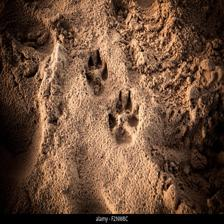fox: (101, 88, 146, 148), (82, 48, 111, 95)
